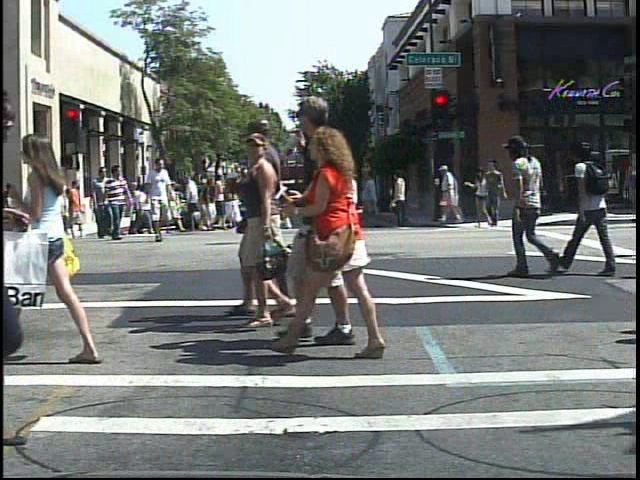person: (266, 90, 390, 345), (4, 119, 106, 371), (290, 118, 393, 357), (564, 130, 628, 281), (504, 126, 563, 283), (143, 159, 177, 244), (102, 161, 132, 241), (43, 166, 73, 245), (439, 161, 463, 225), (20, 183, 44, 243), (91, 182, 111, 221)
